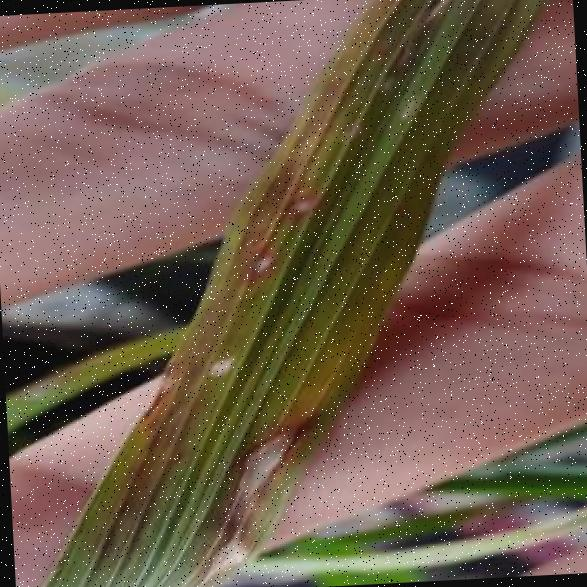Leaf_smut: (198, 396, 356, 533), (240, 173, 318, 237), (222, 222, 292, 290), (190, 343, 248, 410), (136, 352, 197, 402)
